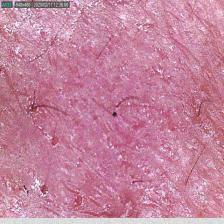Dry: (0, 14, 224, 216)
